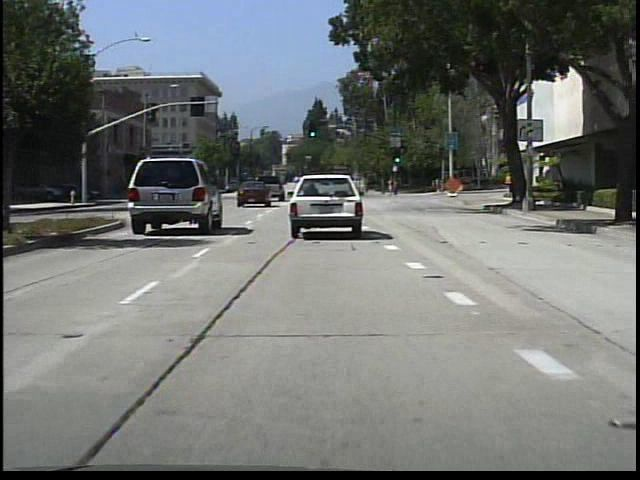person: (384, 172, 398, 199)
